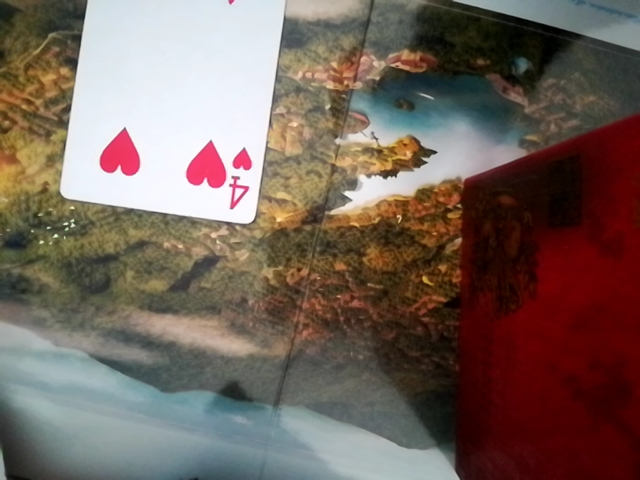hx 4: (54, 0, 283, 227)
